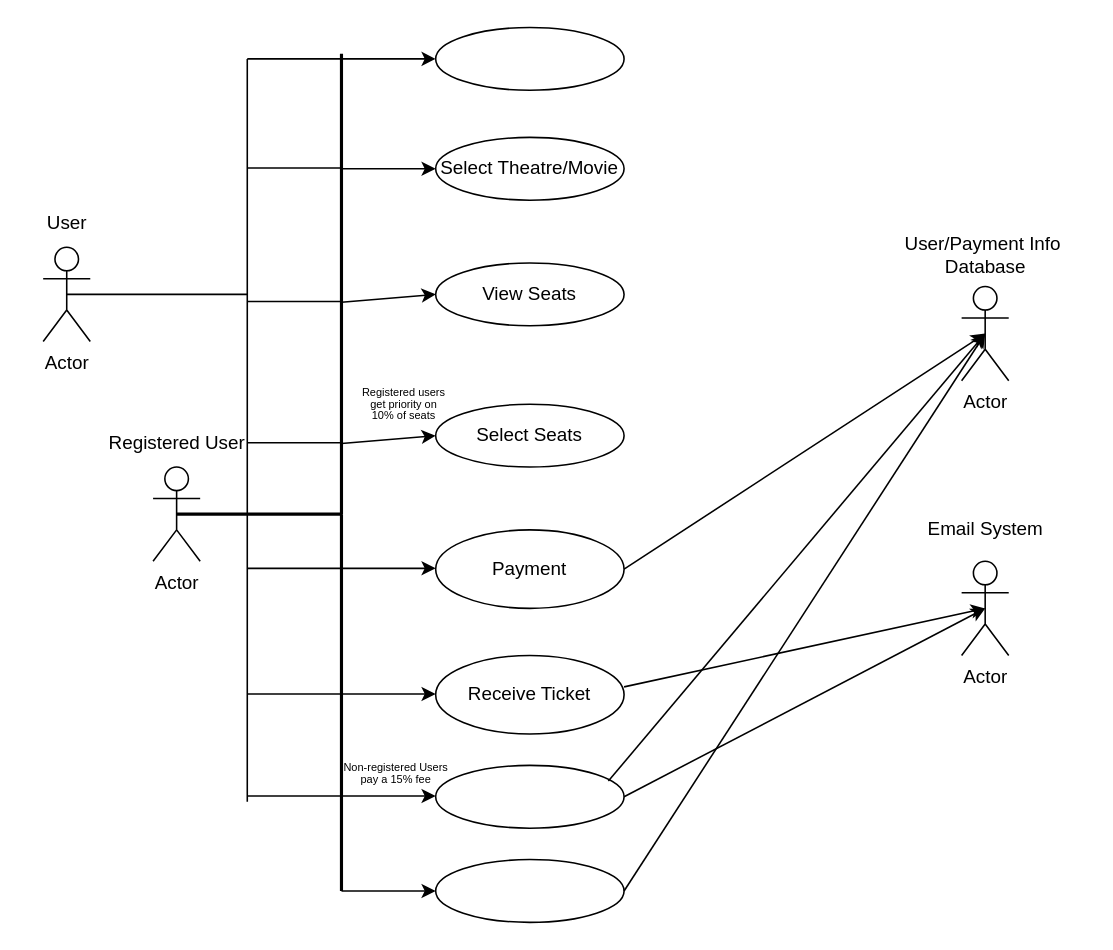
Some shapes in this 1113 by 950 pixel diagram are drawn without their labels. The shapes that lost their labels are listed below. From the top down, each one's centre as x and y in pixels, then its label:
At (529,58): "Browse Movies".
At (529,796): "Cancel Ticket".
At (529,890): "Annual Fee".
